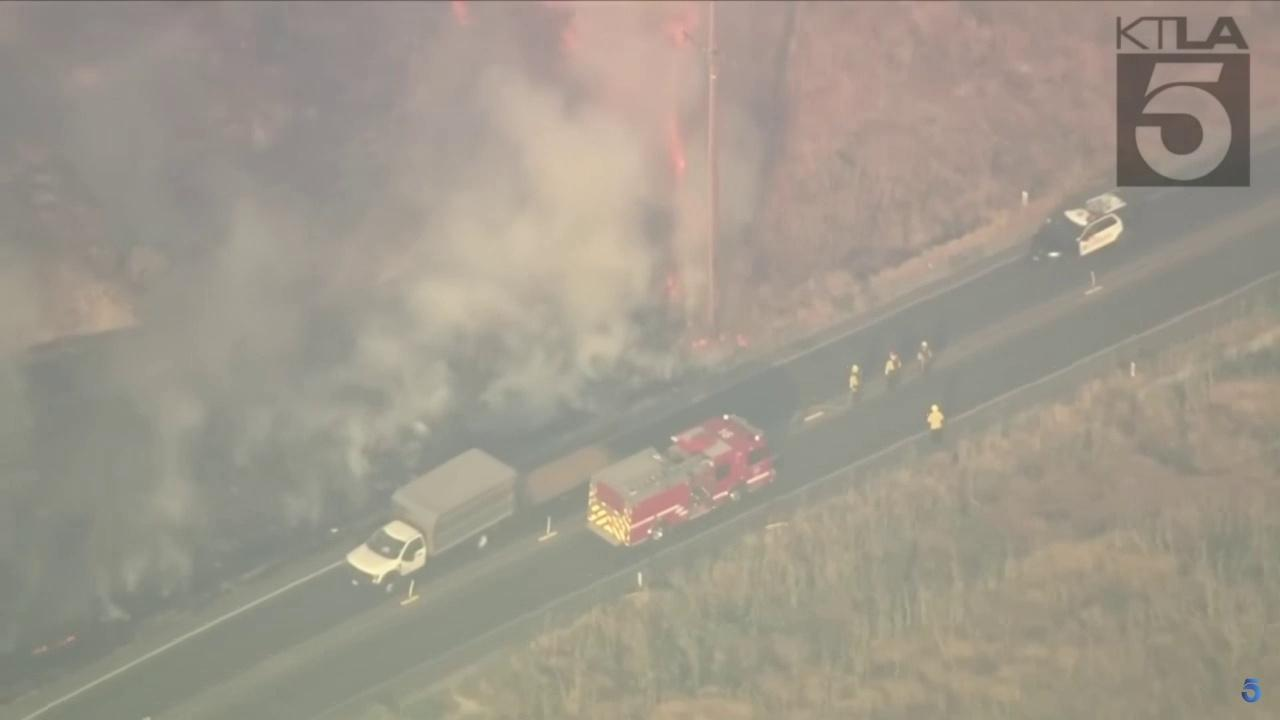fire: (663, 113, 686, 201), (664, 272, 684, 302), (451, 0, 474, 26), (689, 337, 708, 350), (735, 335, 751, 349), (33, 643, 49, 655), (65, 634, 76, 643)
smoke: (0, 0, 768, 650)
